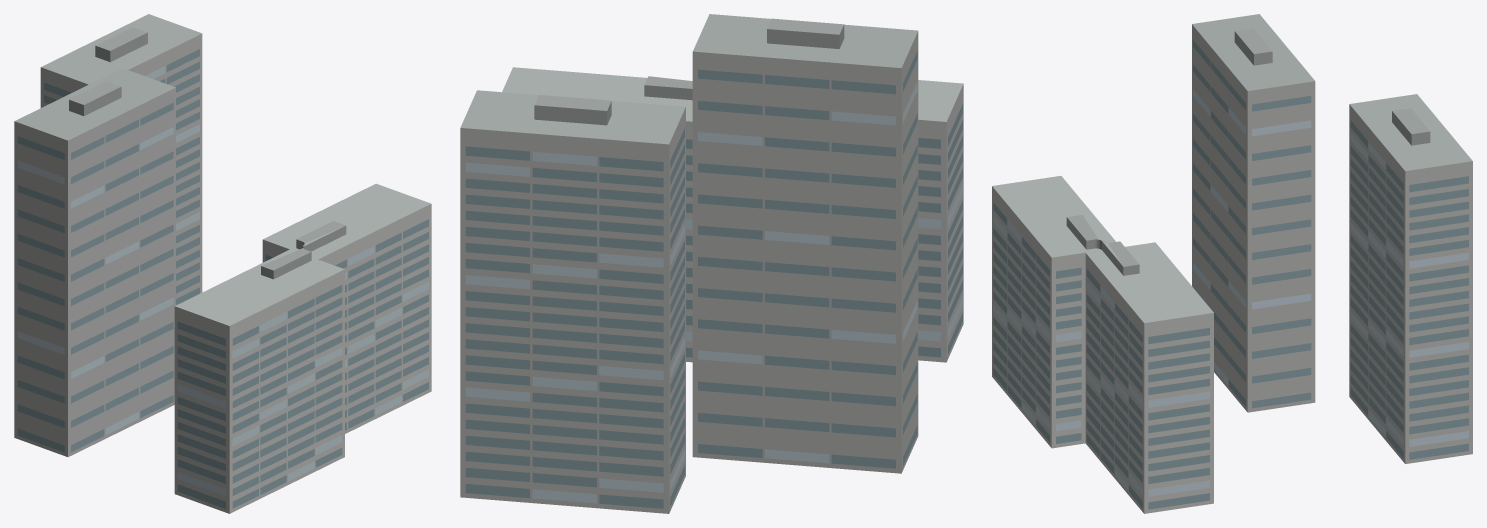
Rendered from apt-a10024820.glb.
3 views of the same model, side by side, from view 1: azimuth 30°, elevation 25°; view 2: azimuth 150°, elevation 25°; view 3: azimuth 270°, elevation 25° (orthographic). The views are drawn at different scales.
Visible parts, largest first — view 1: apt-a10024820; view 2: apt-a10024820; view 3: apt-a10024820.
Boxes of the visible parts, x1,y1,x2,y2 form: apt-a10024820: [14, 14, 431, 513]; apt-a10024820: [460, 14, 963, 513]; apt-a10024820: [992, 14, 1472, 513].
Bounding box in the file's own units: 80.48 × 70 × 91.65.
